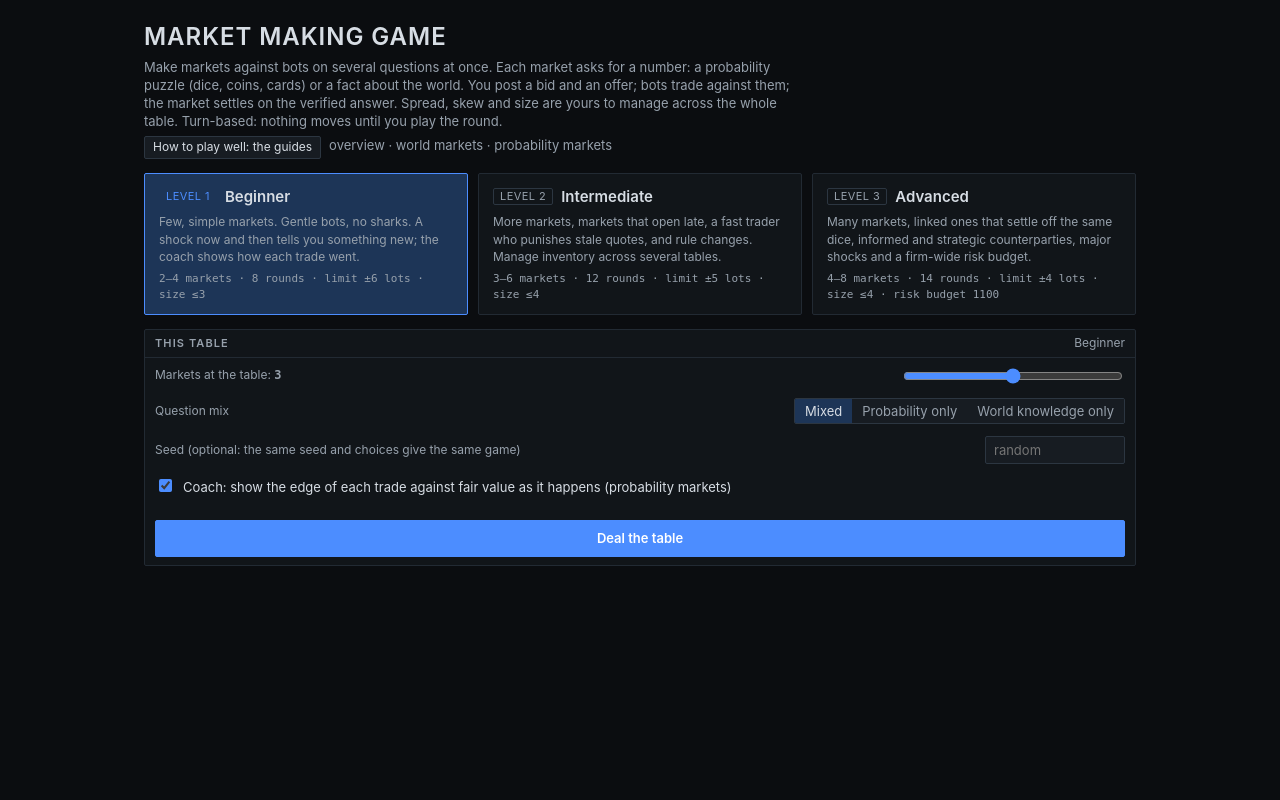
Test: lobby › shows the three levels from the server and starts a game with the chosen options
expect the 1st text "Beginner" is shown: met, box [225,186,290,207]
expect the text "Advanced" is shown: met, box [895,186,969,207]
Click the radio button labelled "LEVEL 2" at (640, 244), box [478,173,802,315]
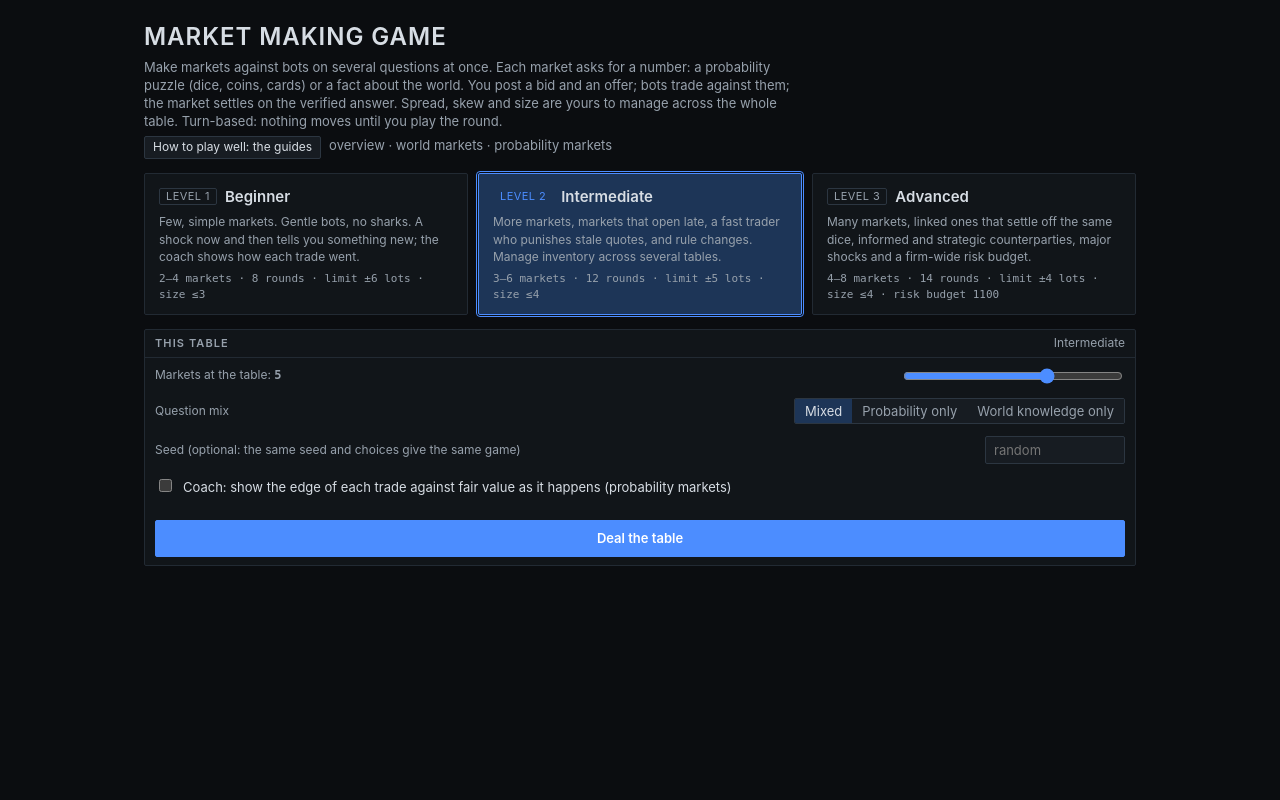
Click the radio button labelled "Probability only" at (910, 411), box [852,399,967,423]
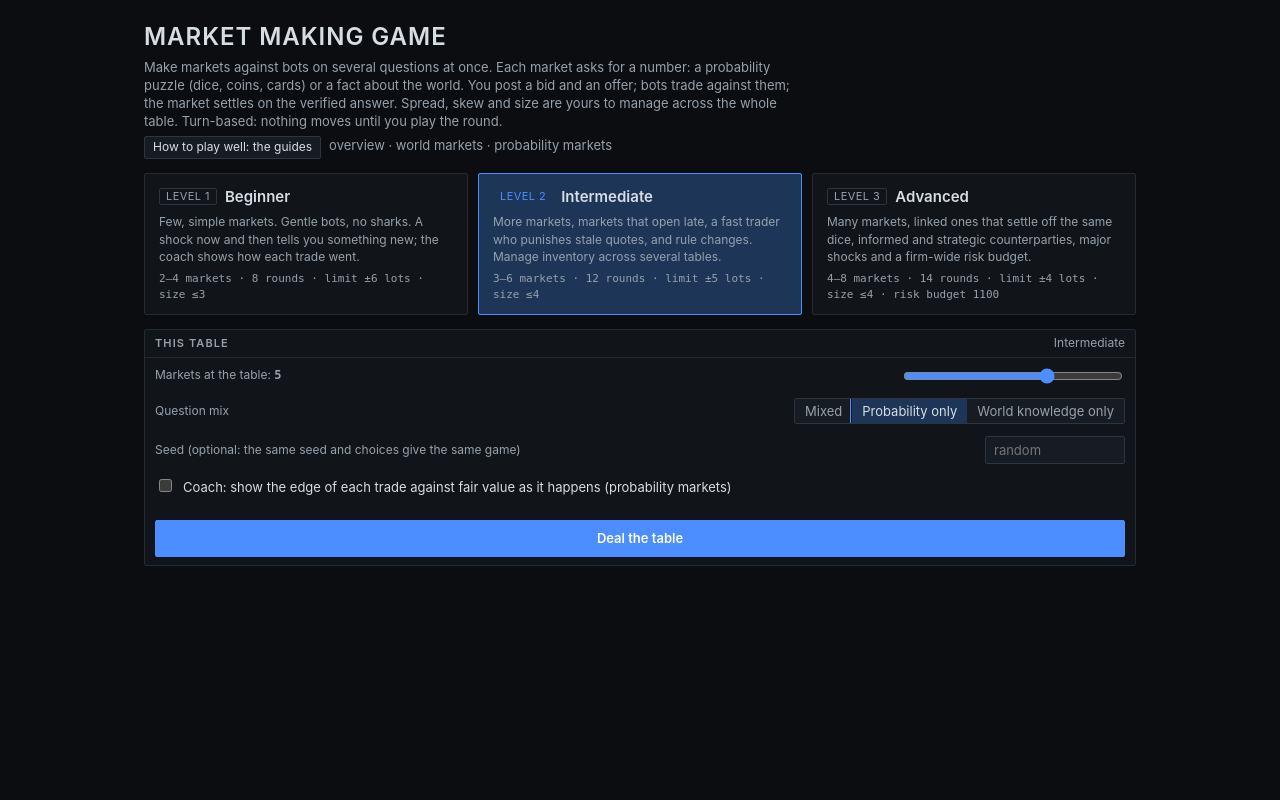
Type "42" into the field labelled "Seed" at (1055, 450), box [985,436,1125,464]
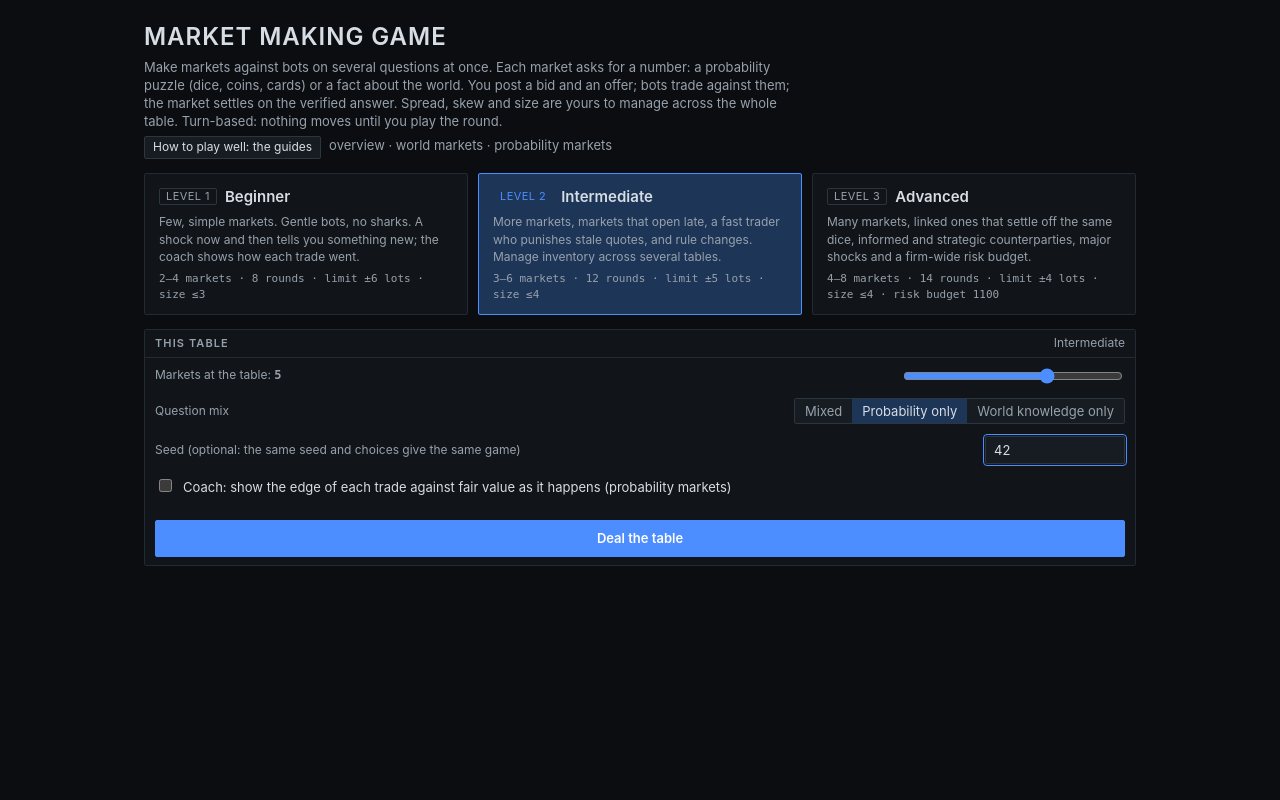
Click the button "Deal the table" at (640, 539), box [155,520,1125,557]
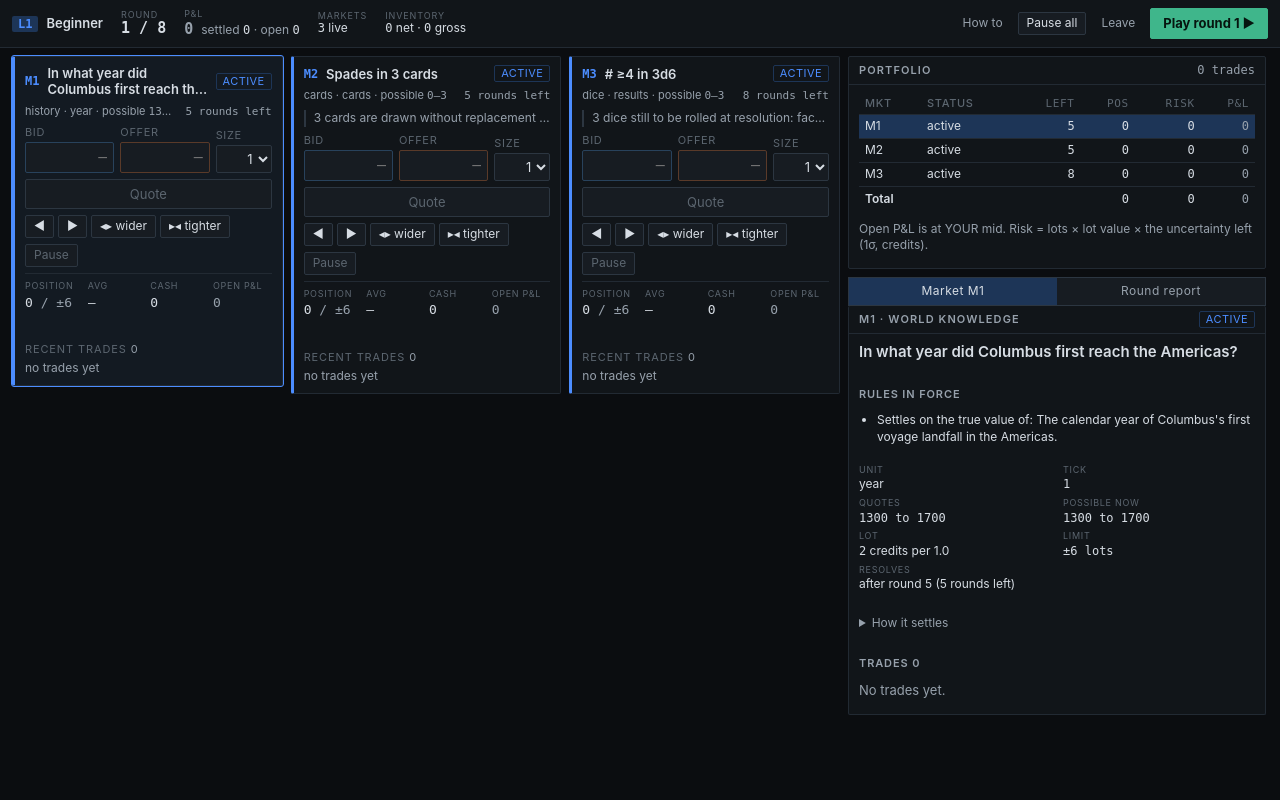
expect the element with test id "game-table" is shown: met
